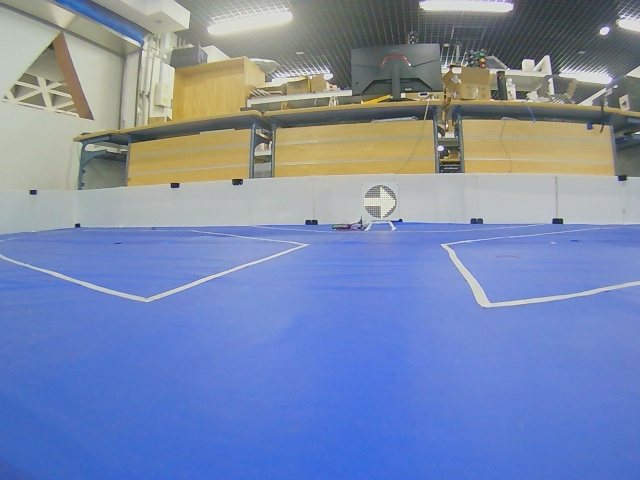right_yellow: (364, 185, 397, 219)
